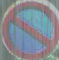No waiting: (5, 3, 55, 54)
